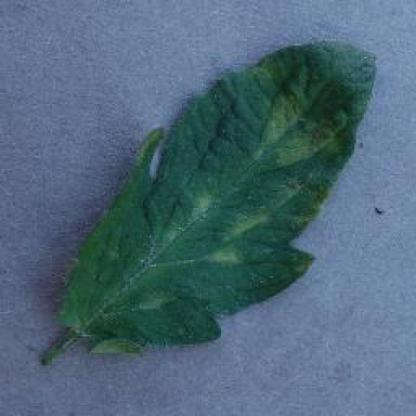Tomato_Leaf_Mold: (63, 41, 380, 341)
